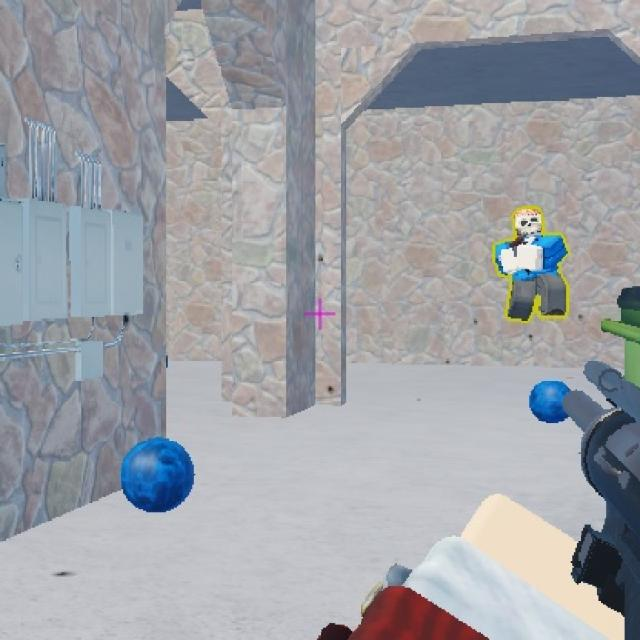player: (497, 202, 571, 323)
